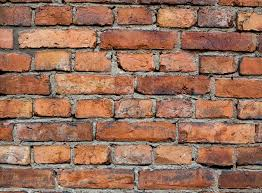brick: (18, 28, 98, 52), (54, 73, 136, 95), (178, 120, 255, 143), (98, 29, 178, 51), (18, 119, 94, 142), (183, 30, 255, 53), (138, 167, 213, 189), (96, 120, 178, 140), (137, 73, 211, 95), (57, 168, 137, 187), (216, 77, 262, 101), (1, 73, 51, 94), (1, 168, 55, 187), (113, 97, 157, 118), (112, 142, 152, 165), (35, 4, 74, 27), (74, 142, 113, 165), (156, 7, 198, 28), (76, 4, 114, 26), (34, 142, 72, 164), (218, 170, 262, 189), (34, 53, 75, 73), (35, 97, 73, 118), (116, 6, 155, 26), (75, 52, 114, 72), (116, 53, 155, 73), (199, 54, 236, 75), (199, 8, 234, 29), (1, 96, 34, 118), (196, 145, 234, 164), (160, 53, 196, 73), (195, 101, 235, 119), (155, 146, 195, 164), (157, 99, 194, 117), (77, 98, 112, 117), (1, 143, 31, 164), (1, 53, 34, 72), (1, 7, 32, 26), (236, 10, 262, 32), (236, 145, 262, 164), (239, 56, 262, 75), (237, 103, 262, 120), (1, 122, 16, 143), (1, 28, 15, 50)
